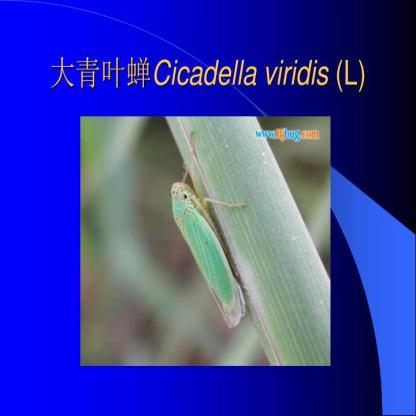Green-Leafhopper: (161, 138, 253, 332)
